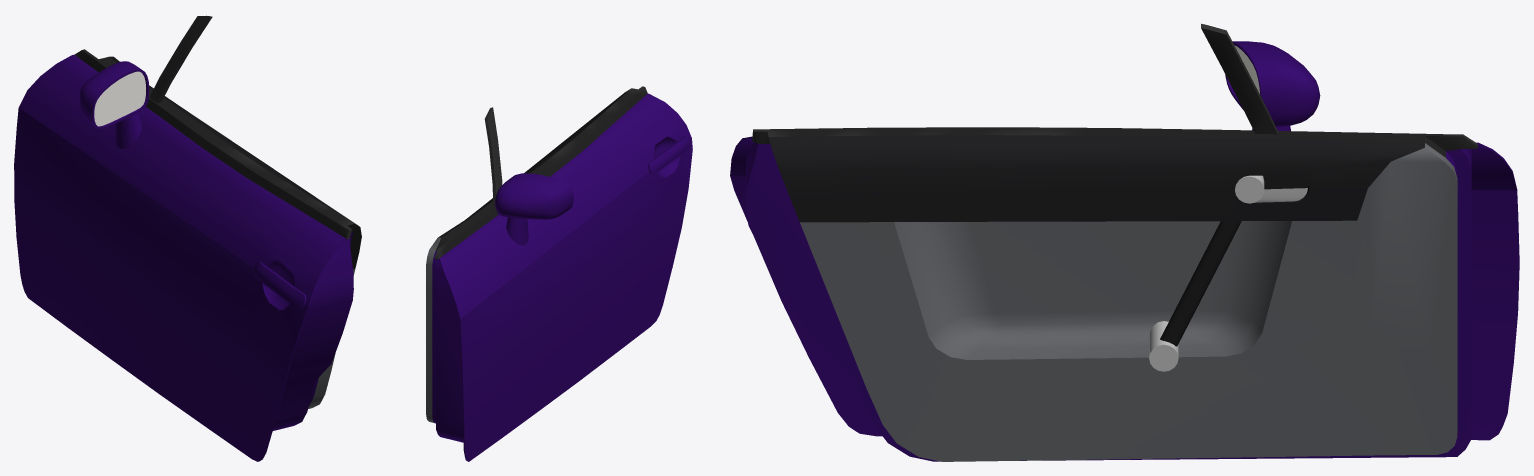
The model's file is doorl.glb.
The picture shows the model from 3 angles, left to right: view 1: azimuth 30°, elevation 25°; view 2: azimuth 150°, elevation 25°; view 3: azimuth 270°, elevation 25°; orthographic projection. The views are drawn at different scales.
Visible parts, largest first — view 1: Door L; view 2: Door L; view 3: Door L.
Boxes of the visible parts, left/top/right/bottom form: Door L: left=14, top=15, right=361, bottom=461; Door L: left=426, top=86, right=692, bottom=461; Door L: left=730, top=23, right=1519, bottom=461.
Size of the model in its own units: 0.3237 by 0.8716 by 1.29.
3 materials, 2 textured.
